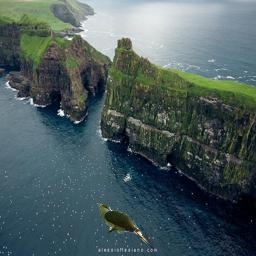Cuckoo: (96, 203, 150, 244)
